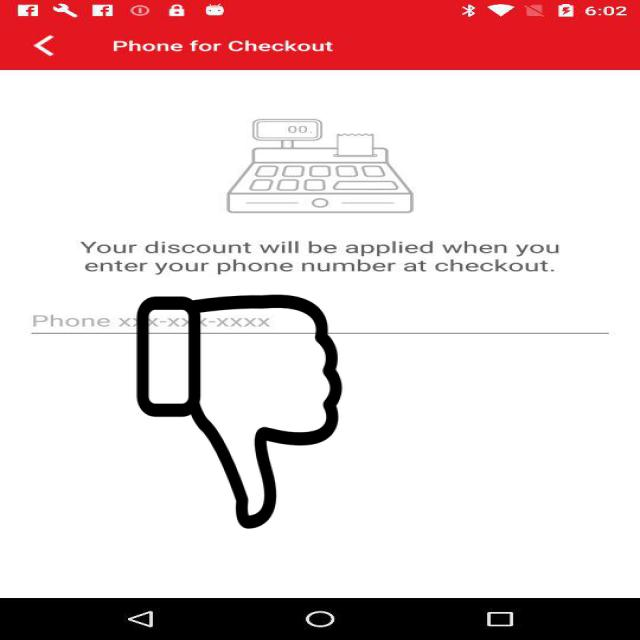obstruction: (134, 294, 345, 528)
